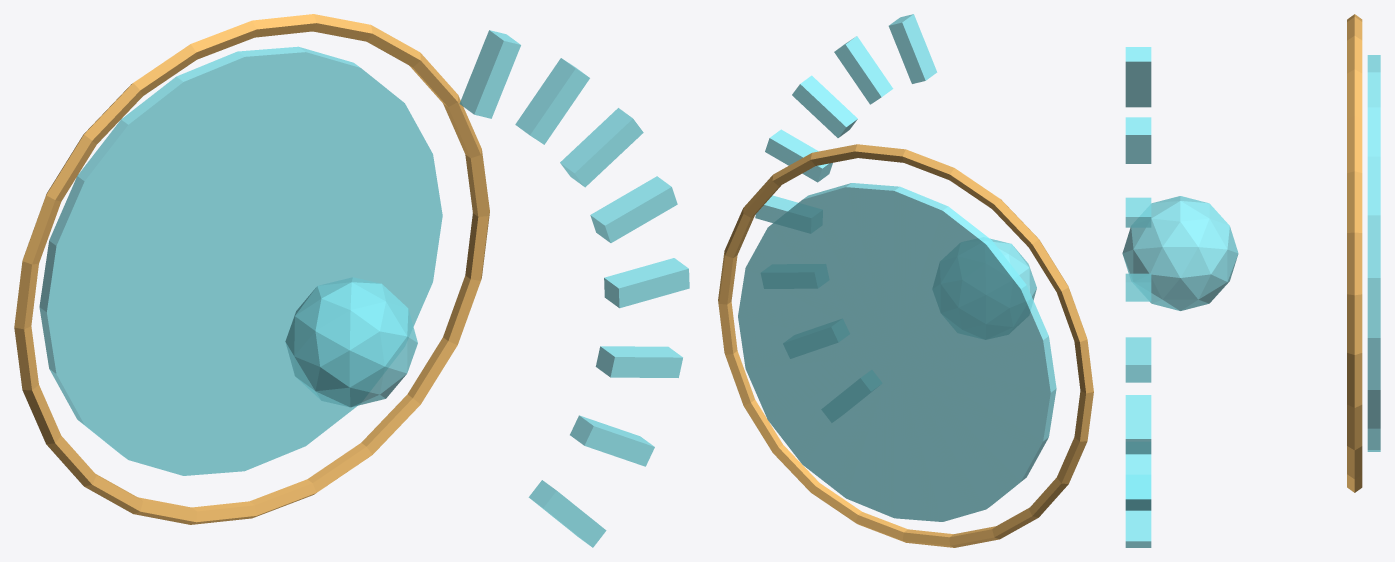
The model's file is 01_class_special_attack_vfx.glb.
The picture shows the model from 3 angles, left to right: view 1: azimuth 30°, elevation 25°; view 2: azimuth 150°, elevation 25°; view 3: azimuth 270°, elevation 25°; orthographic projection. The views are drawn at different scales.
Parts seen in each view (by area): view 1: ability_cast_disc, ability_outer_ring, class_energy_core, attack_flow_arc_seg_7, attack_flow_arc_seg_5, attack_flow_arc_seg_6, attack_flow_arc_seg_4, attack_flow_arc_seg_3, attack_flow_arc_seg_2, attack_flow_arc_seg_1, attack_flow_arc_seg_0; view 2: ability_cast_disc, ability_outer_ring, attack_flow_arc_seg_7, attack_flow_arc_seg_5, attack_flow_arc_seg_6, attack_flow_arc_seg_4, class_energy_core, attack_flow_arc_seg_3; view 3: class_energy_core, ability_outer_ring, ability_cast_disc, attack_flow_arc_seg_7, attack_flow_arc_seg_2, attack_flow_arc_seg_1, attack_flow_arc_seg_6, attack_flow_arc_seg_3, attack_flow_arc_seg_0, attack_flow_arc_seg_5, attack_flow_arc_seg_4.
Part boxes in pixels (<box>): ability_cast_disc: <box>39,46,442,475</box>; ability_outer_ring: <box>14,14,489,524</box>; class_energy_core: <box>285,277,417,407</box>; attack_flow_arc_seg_7: <box>459,30,520,118</box>; attack_flow_arc_seg_5: <box>560,108,643,187</box>; attack_flow_arc_seg_6: <box>515,58,589,144</box>; attack_flow_arc_seg_4: <box>590,176,677,242</box>; attack_flow_arc_seg_3: <box>604,258,689,308</box>; attack_flow_arc_seg_2: <box>595,346,682,377</box>; attack_flow_arc_seg_1: <box>570,415,654,466</box>; attack_flow_arc_seg_0: <box>528,480,606,547</box>; ability_cast_disc: <box>738,183,1056,521</box>; ability_outer_ring: <box>718,144,1093,547</box>; attack_flow_arc_seg_7: <box>888,14,937,83</box>; attack_flow_arc_seg_5: <box>792,75,857,137</box>; attack_flow_arc_seg_6: <box>834,36,893,104</box>; attack_flow_arc_seg_4: <box>765,129,832,182</box>; class_energy_core: <box>990,238,1036,300</box>; attack_flow_arc_seg_3: <box>755,195,798,222</box>; class_energy_core: <box>1122,196,1238,310</box>; ability_outer_ring: <box>1347,14,1362,492</box>; ability_cast_disc: <box>1367,55,1380,451</box>; attack_flow_arc_seg_7: <box>1125,47,1151,107</box>; attack_flow_arc_seg_2: <box>1125,395,1151,454</box>; attack_flow_arc_seg_1: <box>1125,454,1151,510</box>; attack_flow_arc_seg_6: <box>1125,117,1151,163</box>; attack_flow_arc_seg_3: <box>1125,337,1151,382</box>; attack_flow_arc_seg_0: <box>1125,510,1151,547</box>; attack_flow_arc_seg_5: <box>1125,197,1151,227</box>; attack_flow_arc_seg_4: <box>1125,273,1151,301</box>.
Bounding box in the file's own units: 1.71 × 1.63 × 0.8.
